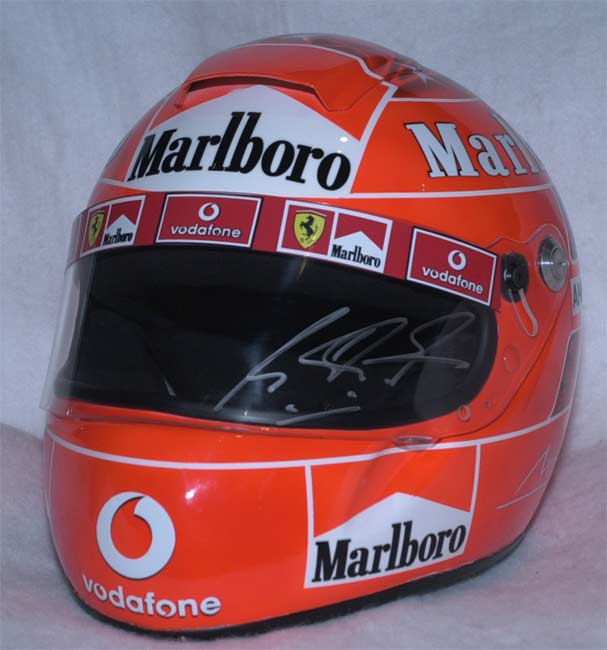helmet: (10, 9, 595, 632)
